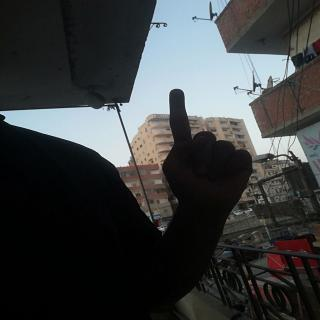BAA: (159, 81, 257, 229)
